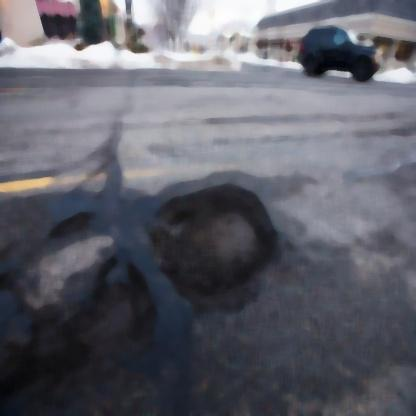Potholes: (152, 186, 286, 304), (13, 214, 114, 304), (86, 270, 160, 362)
